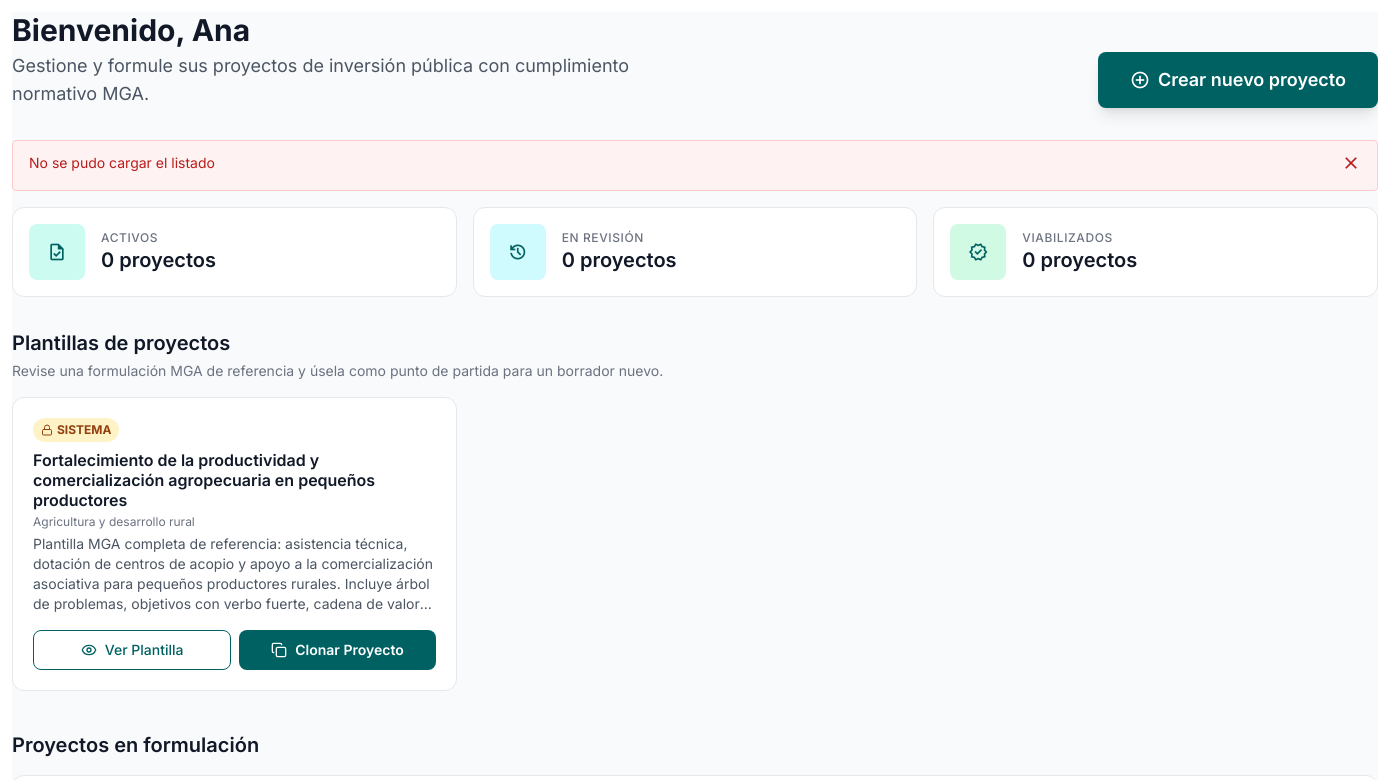
Scenario: ProjectsDashboard › muestra el error del backend y permite descartarlo
The width and height of the screenshot is (1390, 780).
Check: the text "No se pudo cargar el listado" is shown, box [29,153,215,173]
Click the button named "Cerrar": (1351, 166) [1341,153,1361,178]
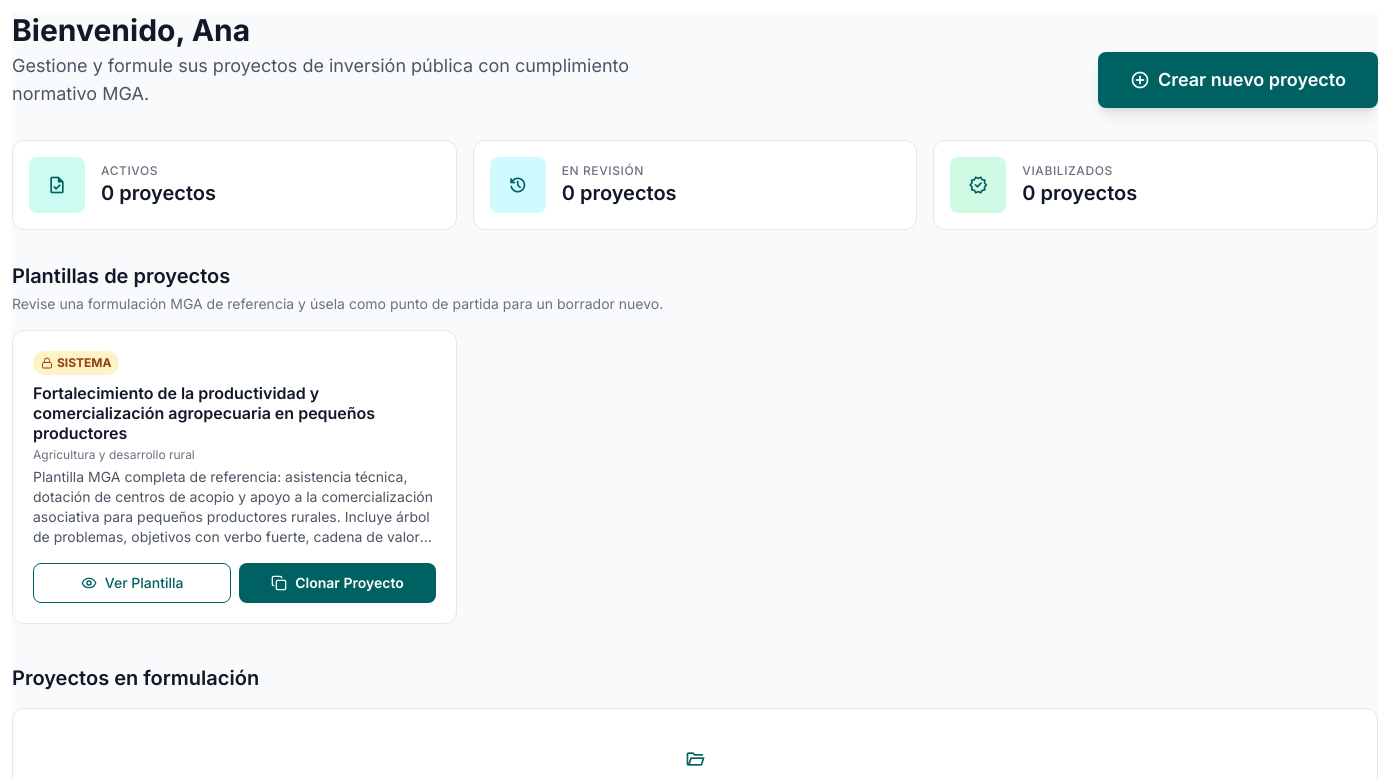
Check: the message "No se pudo cargar el listado" is gone
